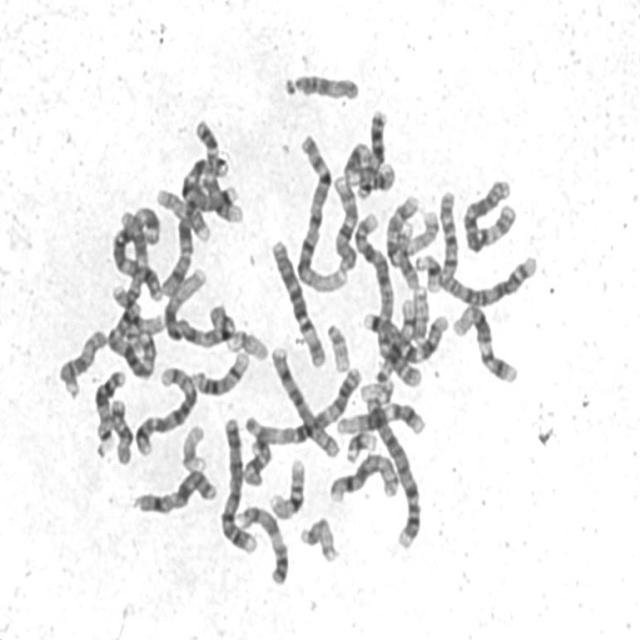A1: (293, 128, 349, 295), (160, 262, 238, 350)
A2: (350, 210, 424, 387), (435, 191, 537, 308)
A3: (242, 360, 366, 446), (108, 202, 163, 310)
B4: (359, 390, 426, 552), (216, 411, 259, 557)
B5: (130, 361, 200, 457), (105, 279, 158, 381)
C10: (158, 203, 201, 295), (329, 169, 360, 272)
C11: (114, 214, 151, 306), (343, 138, 400, 192)
C12: (448, 298, 522, 385), (333, 398, 428, 438)
C6: (267, 233, 329, 369), (460, 171, 520, 254)
C7: (360, 305, 450, 365), (176, 152, 242, 211)
C8: (267, 342, 342, 461), (325, 448, 403, 506)
C9: (190, 112, 244, 226), (232, 499, 291, 586)
D13: (91, 364, 128, 456), (354, 103, 389, 199)
D14: (188, 344, 253, 398), (392, 214, 421, 291)
D15: (54, 323, 109, 402), (280, 66, 362, 103)
E16: (265, 451, 308, 522), (121, 308, 168, 351)
E17: (152, 182, 213, 244), (387, 204, 442, 259)
E18: (107, 394, 136, 466), (238, 432, 274, 488)
F19: (224, 324, 270, 362), (178, 419, 209, 473)
F20: (297, 512, 341, 564), (409, 281, 431, 344)
G21: (341, 425, 380, 464), (412, 248, 444, 294)
G22: (322, 316, 353, 374), (356, 374, 397, 404)
X: (130, 465, 220, 517)
